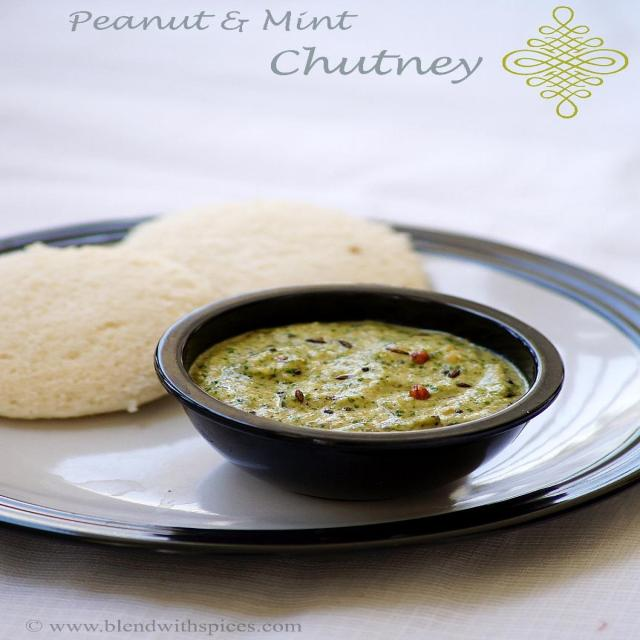puthina chutney: (169, 279, 552, 462)
